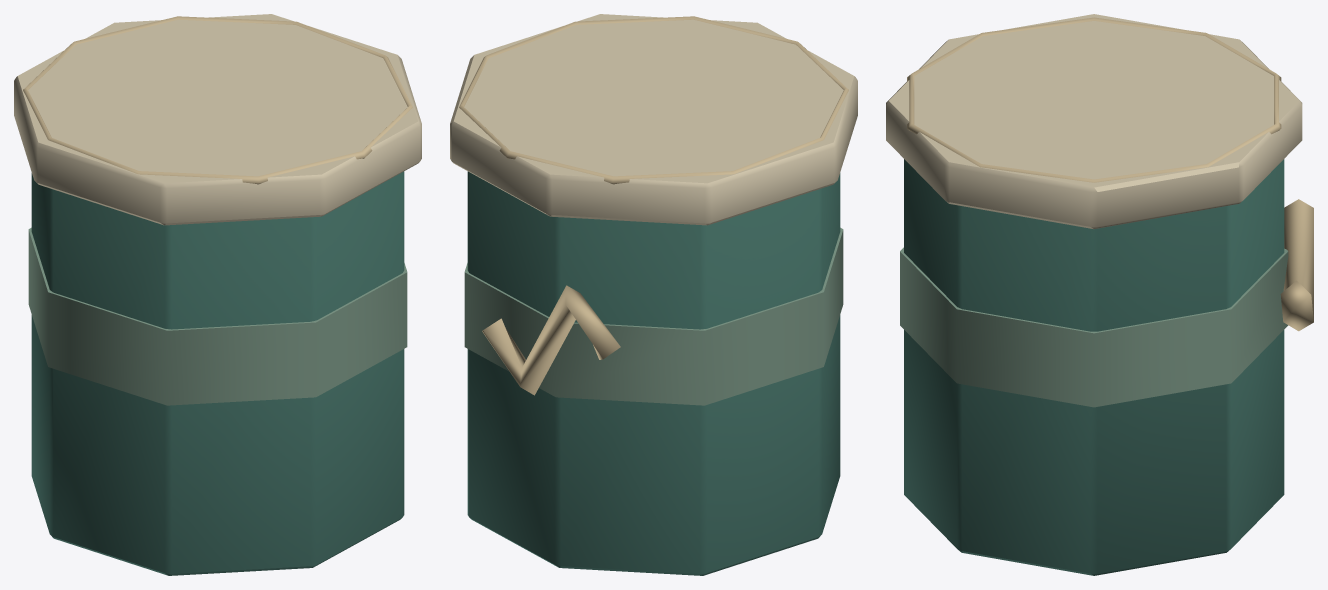
Rendered from bait_low.glb.
3 renders of one model, left to right at view 1: azimuth 30°, elevation 25°; view 2: azimuth 150°, elevation 25°; view 3: azimuth 270°, elevation 25°, orthographic.
Bounding box in the file's own units: 0.1629 × 0.172 × 0.1674.
